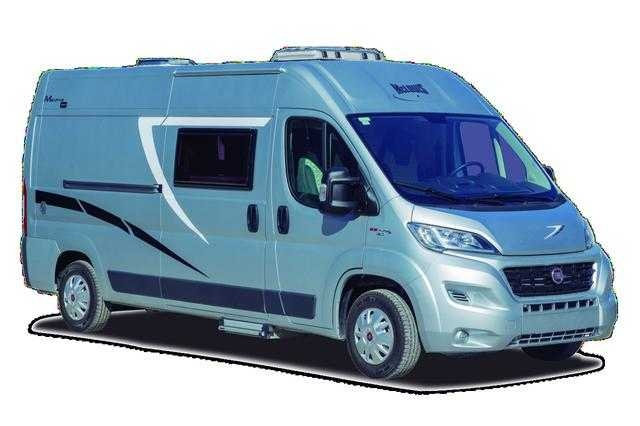van: (19, 58, 619, 379)
